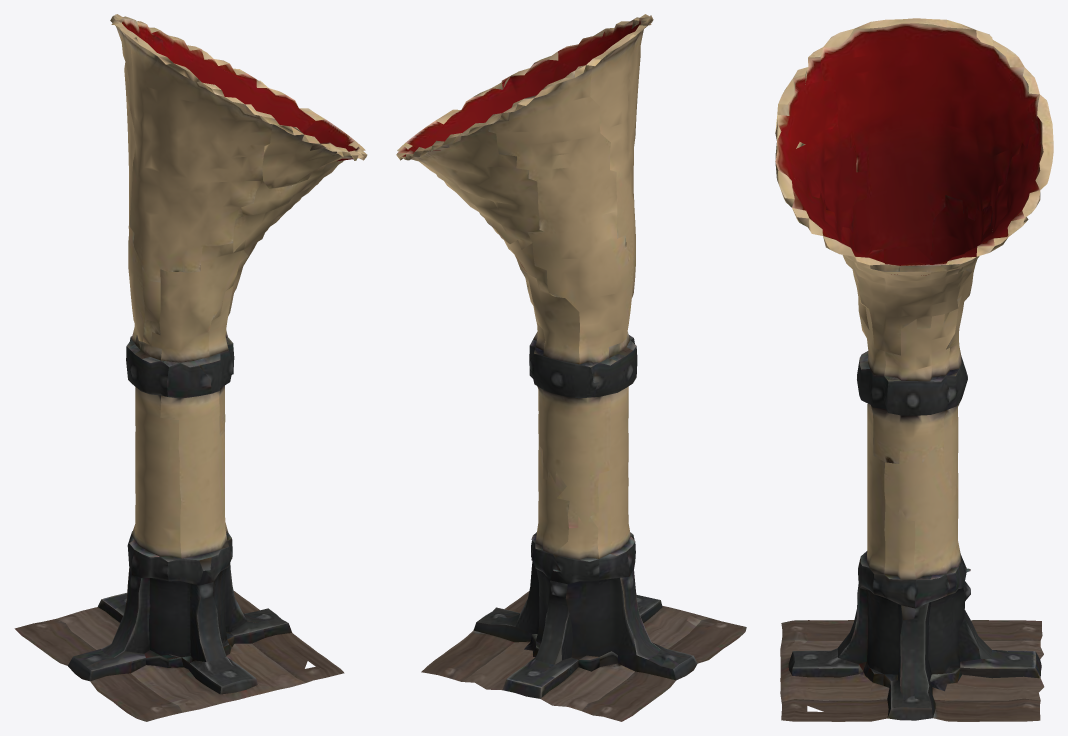
File: manche_air.glb
3 views of the same model, side by side, from view 1: azimuth 30°, elevation 25°; view 2: azimuth 150°, elevation 25°; view 3: azimuth 270°, elevation 25° (orthographic).
Visible parts, largest first — view 1: manche_air; view 2: manche_air; view 3: manche_air.
Part boxes in pixels (x1,y1,x2,y2): manche_air: (14,14,367,721); manche_air: (396,14,746,721); manche_air: (775,18,1053,721).
Size of the model in its own units: 1.02 by 2.3 by 0.9089.
Materials: 1 (1 with a texture image).
